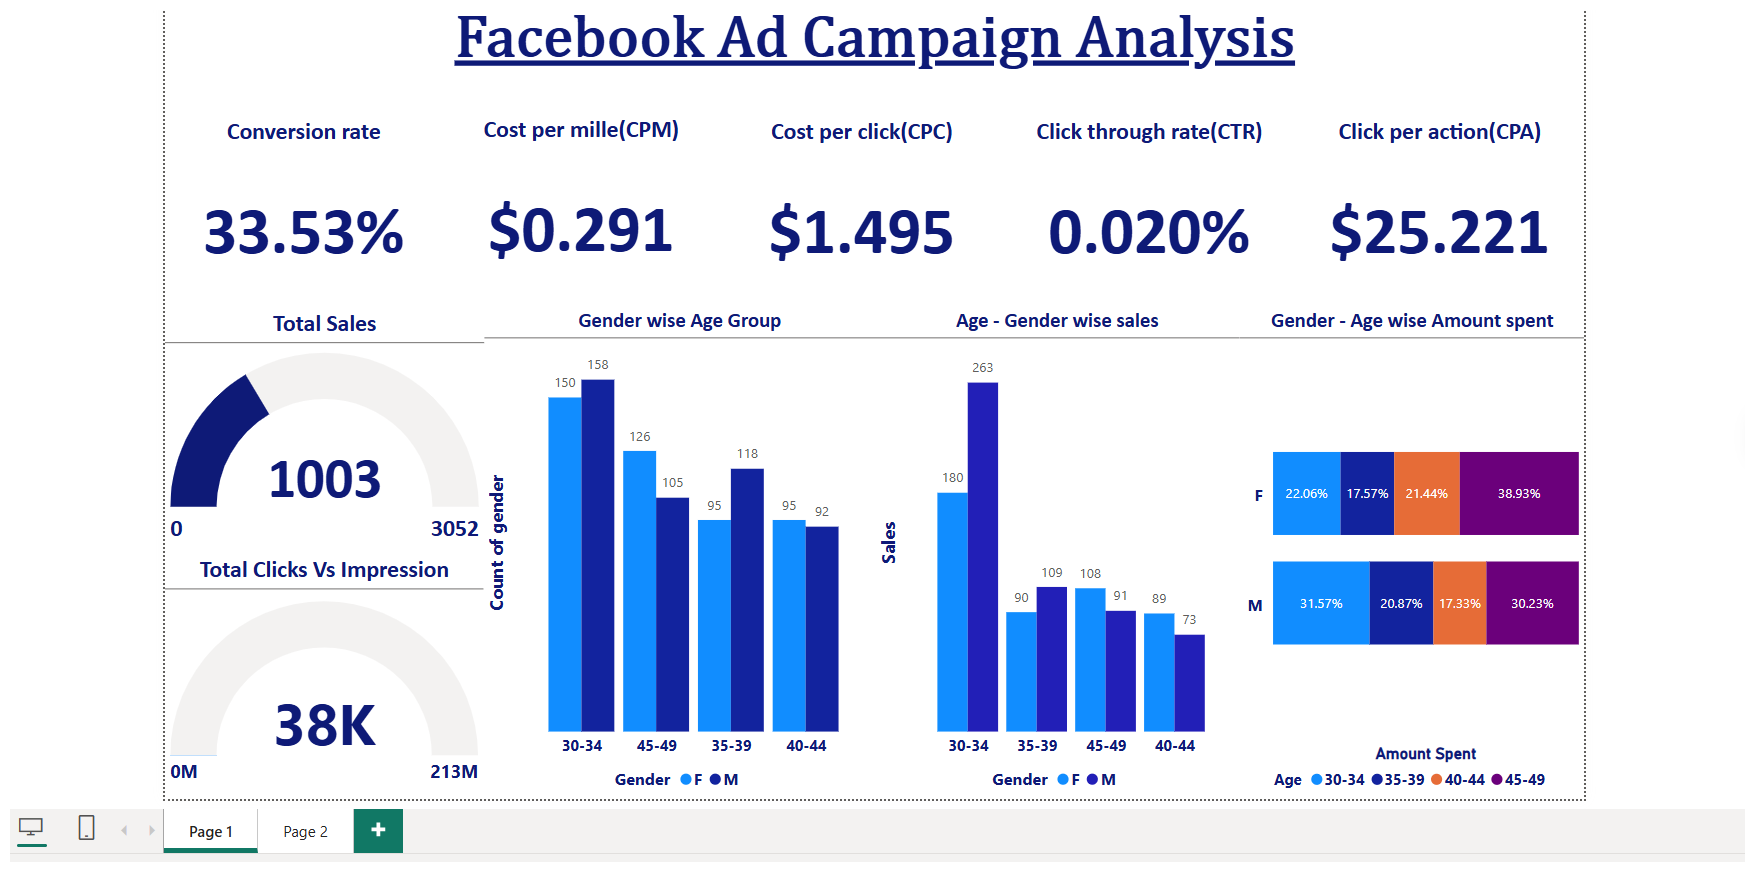

What the dashboard file says about the page in this screenshot:
{"tool":"powerbi","page":{"name":"Page 1","canvas":[1280,720],"ordinal":0},"visuals":[{"type":"textbox","box":[0,0,1280,103.1],"z":0},{"type":"card","title":"Conversion rate","fields":{"Values":["Avg(working.Conversion rate)"]},"box":[0,104.9,250.2,171.4],"z":0,"group":"g1"},{"type":"clusteredColumnChart","title":"Gender wise Age Group","fields":{"Category":["working.age"],"Y":["CountNonNull(working.gender)"],"Series":["working.gender"]},"box":[287.3,276.3,353.3,444.1],"z":0,"group":"g2"},{"type":"group","id":"g1","title":"Group 1","box":[0,103.1,1280,173.2],"z":6},{"type":"card","title":"Cost per click(CPC)","fields":{"Values":["Avg(working.CPC)"]},"box":[500.5,104.9,255.7,171.4],"z":1000,"group":"g1"},{"type":"gauge","title":"Total Sales","fields":{"MaxValue":["Sum(working.Total_Conversion)"],"Y":["Sum(working.Approved_Conversion)"]},"box":[0,277.3,288,221.3],"z":1000,"group":"g2"},{"type":"card","title":"Click through rate(CTR)","fields":{"Values":["Avg(working.CTR)"]},"box":[756.2,104.9,262.6,171.4],"z":2000,"group":"g1"},{"type":"gauge","title":"Total Clicks Vs Impression","fields":{"MaxValue":["Sum(working.Impressions)"],"Y":["Sum(working.Clicks)"]},"box":[0,499,287.3,221.4],"z":2000,"group":"g2"},{"type":"card","title":"Cost per mille(CPM)","fields":{"Values":["Avg(working.CPM)"]},"box":[250.2,103.1,250.2,173.2],"z":3000,"group":"g1"},{"type":"clusteredColumnChart","title":"Age - Gender wise sales","fields":{"Category":["working.age"],"Y":["Sum(working.Approved_Conversion)"],"Series":["working.gender"]},"box":[640.7,276.3,328.6,444.1],"z":3000,"group":"g2"},{"type":"card","title":"Click per action(CPA)","fields":{"Values":["Avg(working.CPA)"]},"box":[1018.8,104.9,261.2,171.4],"z":4000,"group":"g1"},{"type":"hundredPercentStackedBarChart","title":"Gender - Age wise Amount spent","fields":{"Category":["working.gender"],"Y":["Sum(working.Spent)"],"Series":["working.age"]},"box":[969.3,276.3,310.7,444.1],"z":4000,"group":"g2"},{"type":"group","id":"g2","title":"Group 2","box":[0,276.3,1280,444.1],"z":4001}]}

Visuals, with their boxes on the page's 1280x720 design canvas (x1, y1, x2, y2). These are canvas units, not pixel positions in the 1755x872 screenshot, which may show the page scaled, cropped or inside an application window:
textbox: Rect(0, 0, 1280, 103)
"Conversion rate" card: Rect(0, 105, 250, 276)
"Gender wise Age Group" clusteredColumnChart: Rect(287, 276, 641, 720)
"Group 1" group: Rect(0, 103, 1280, 276)
"Cost per click(CPC)" card: Rect(500, 105, 756, 276)
"Total Sales" gauge: Rect(0, 277, 288, 499)
"Click through rate(CTR)" card: Rect(756, 105, 1019, 276)
"Total Clicks Vs Impression" gauge: Rect(0, 499, 287, 720)
"Cost per mille(CPM)" card: Rect(250, 103, 500, 276)
"Age - Gender wise sales" clusteredColumnChart: Rect(641, 276, 969, 720)
"Click per action(CPA)" card: Rect(1019, 105, 1280, 276)
"Gender - Age wise Amount spent" hundredPercentStackedBarChart: Rect(969, 276, 1280, 720)
"Group 2" group: Rect(0, 276, 1280, 720)
